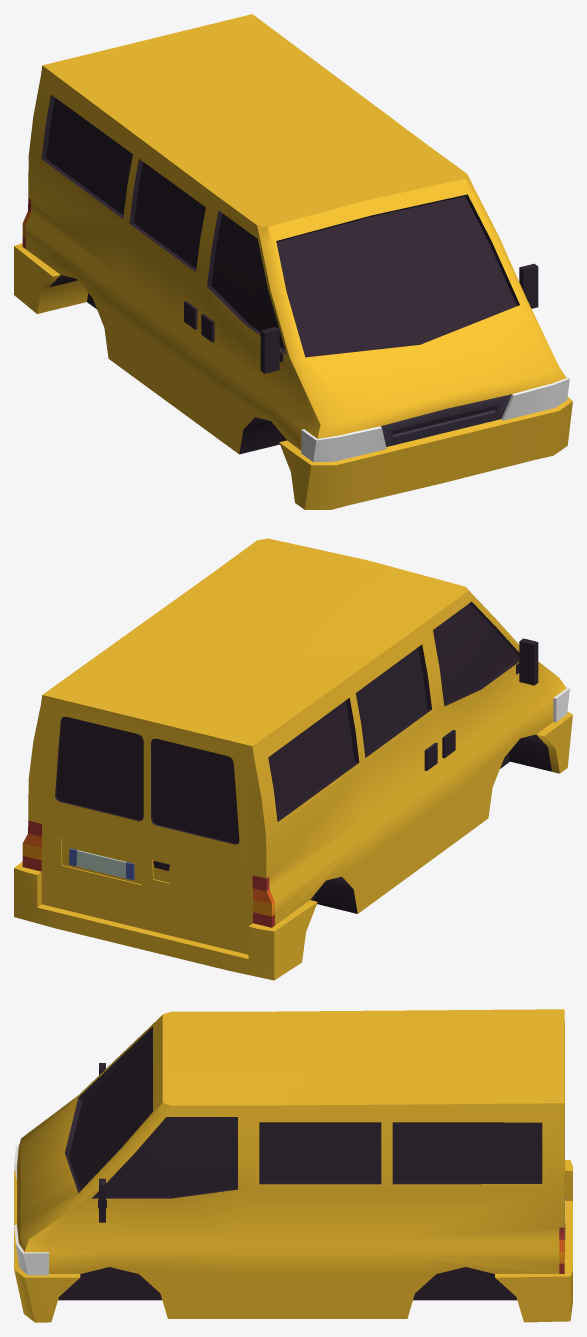
Rendered from Van.fbx.
The picture shows the model from 3 angles, top to bottom: view 1: azimuth 30°, elevation 25°; view 2: azimuth 150°, elevation 25°; view 3: azimuth 270°, elevation 25°; orthographic projection. The views are drawn at different scales.
Parts seen in each view (by area): view 1: Van; view 2: Van; view 3: Van.
Boxes of the visible parts, box(x1,y1,x2,y2) form: Van: box(14, 14, 572, 509); Van: box(14, 538, 572, 980); Van: box(14, 1009, 572, 1322).
Size of the model in its own units: 304 by 241 by 586.
